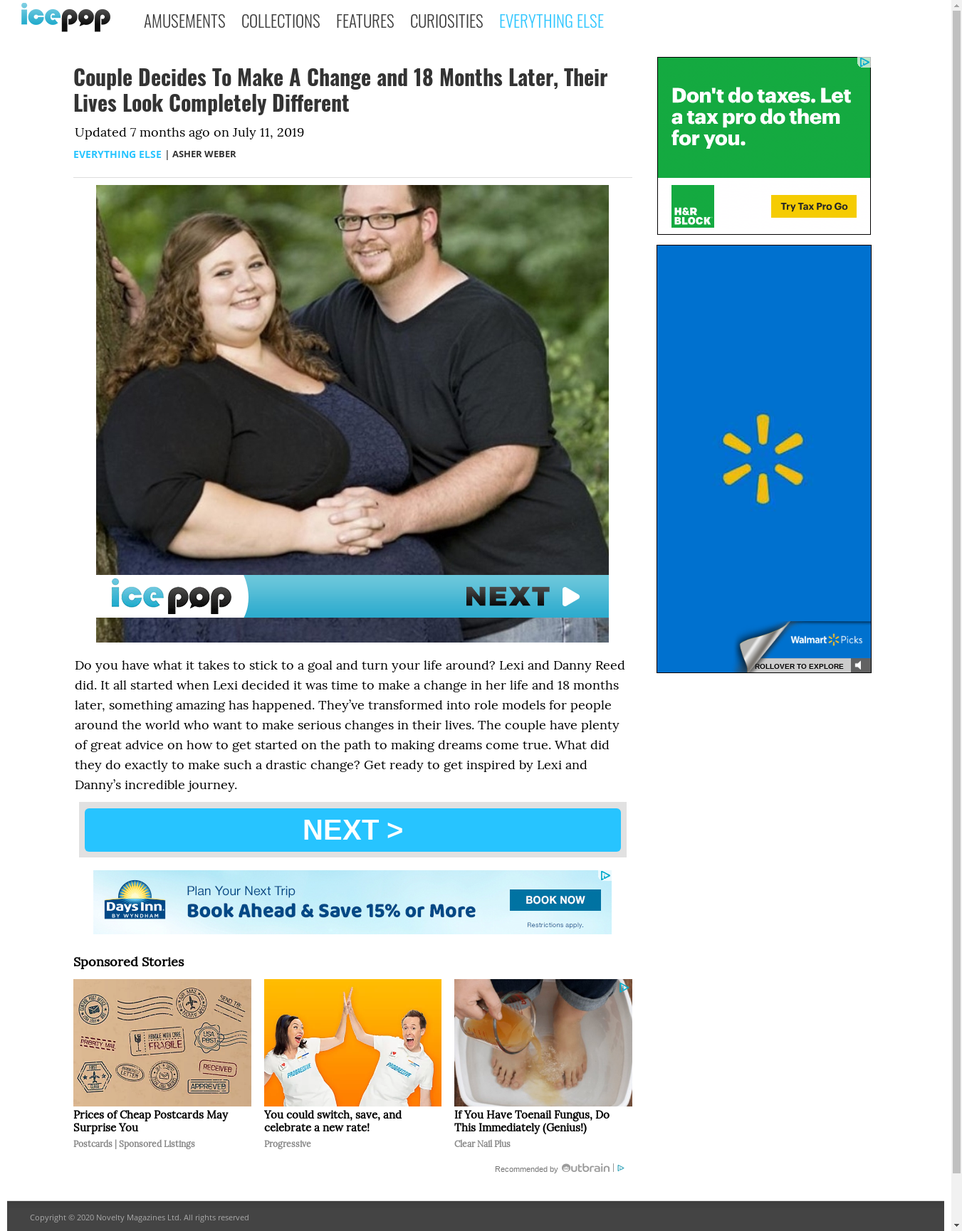fake_button: (68, 793, 637, 865), (760, 180, 876, 229)
